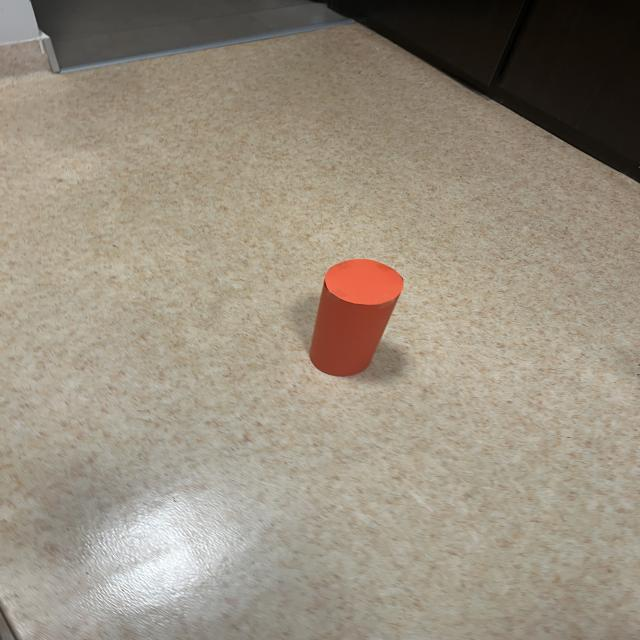przeszkoda: (310, 259, 403, 376)
